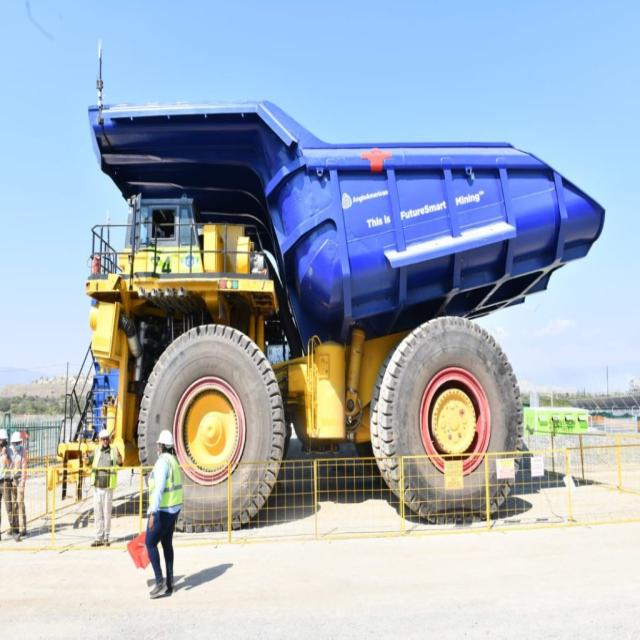dump_truck: (75, 77, 614, 534)
